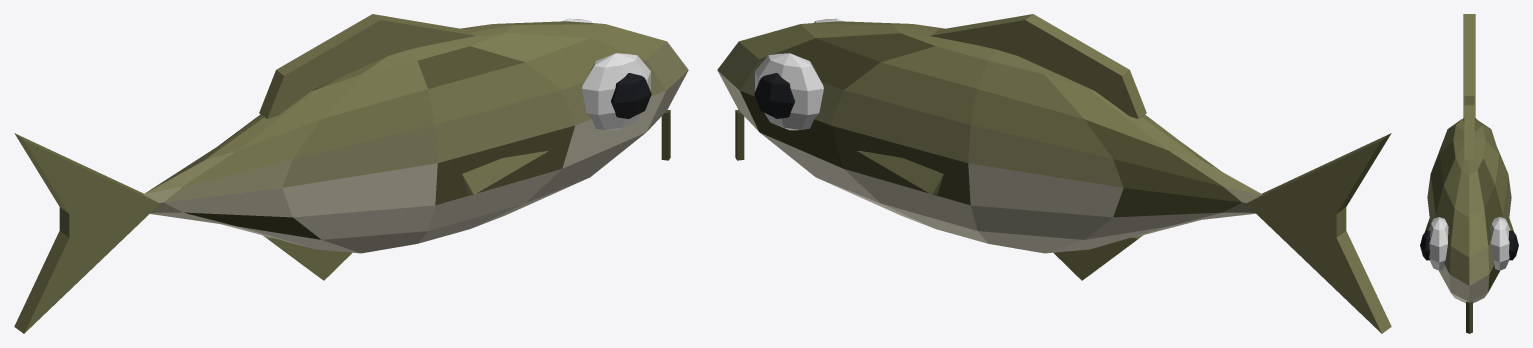
The model's file is fish-cod.glb.
3 renders of one model, left to right at view 1: azimuth 30°, elevation 25°; view 2: azimuth 150°, elevation 25°; view 3: azimuth 270°, elevation 25°, orthographic. The views are drawn at different scales.
Visible parts, largest first — view 1: fish-cod; view 2: fish-cod; view 3: fish-cod.
Boxes of the visible parts, x1,y1,x2,y2 form: fish-cod: (14, 14, 688, 333); fish-cod: (717, 14, 1391, 333); fish-cod: (1420, 14, 1518, 333).
Bounding box in the file's own units: 1.18 × 0.416 × 0.235.
